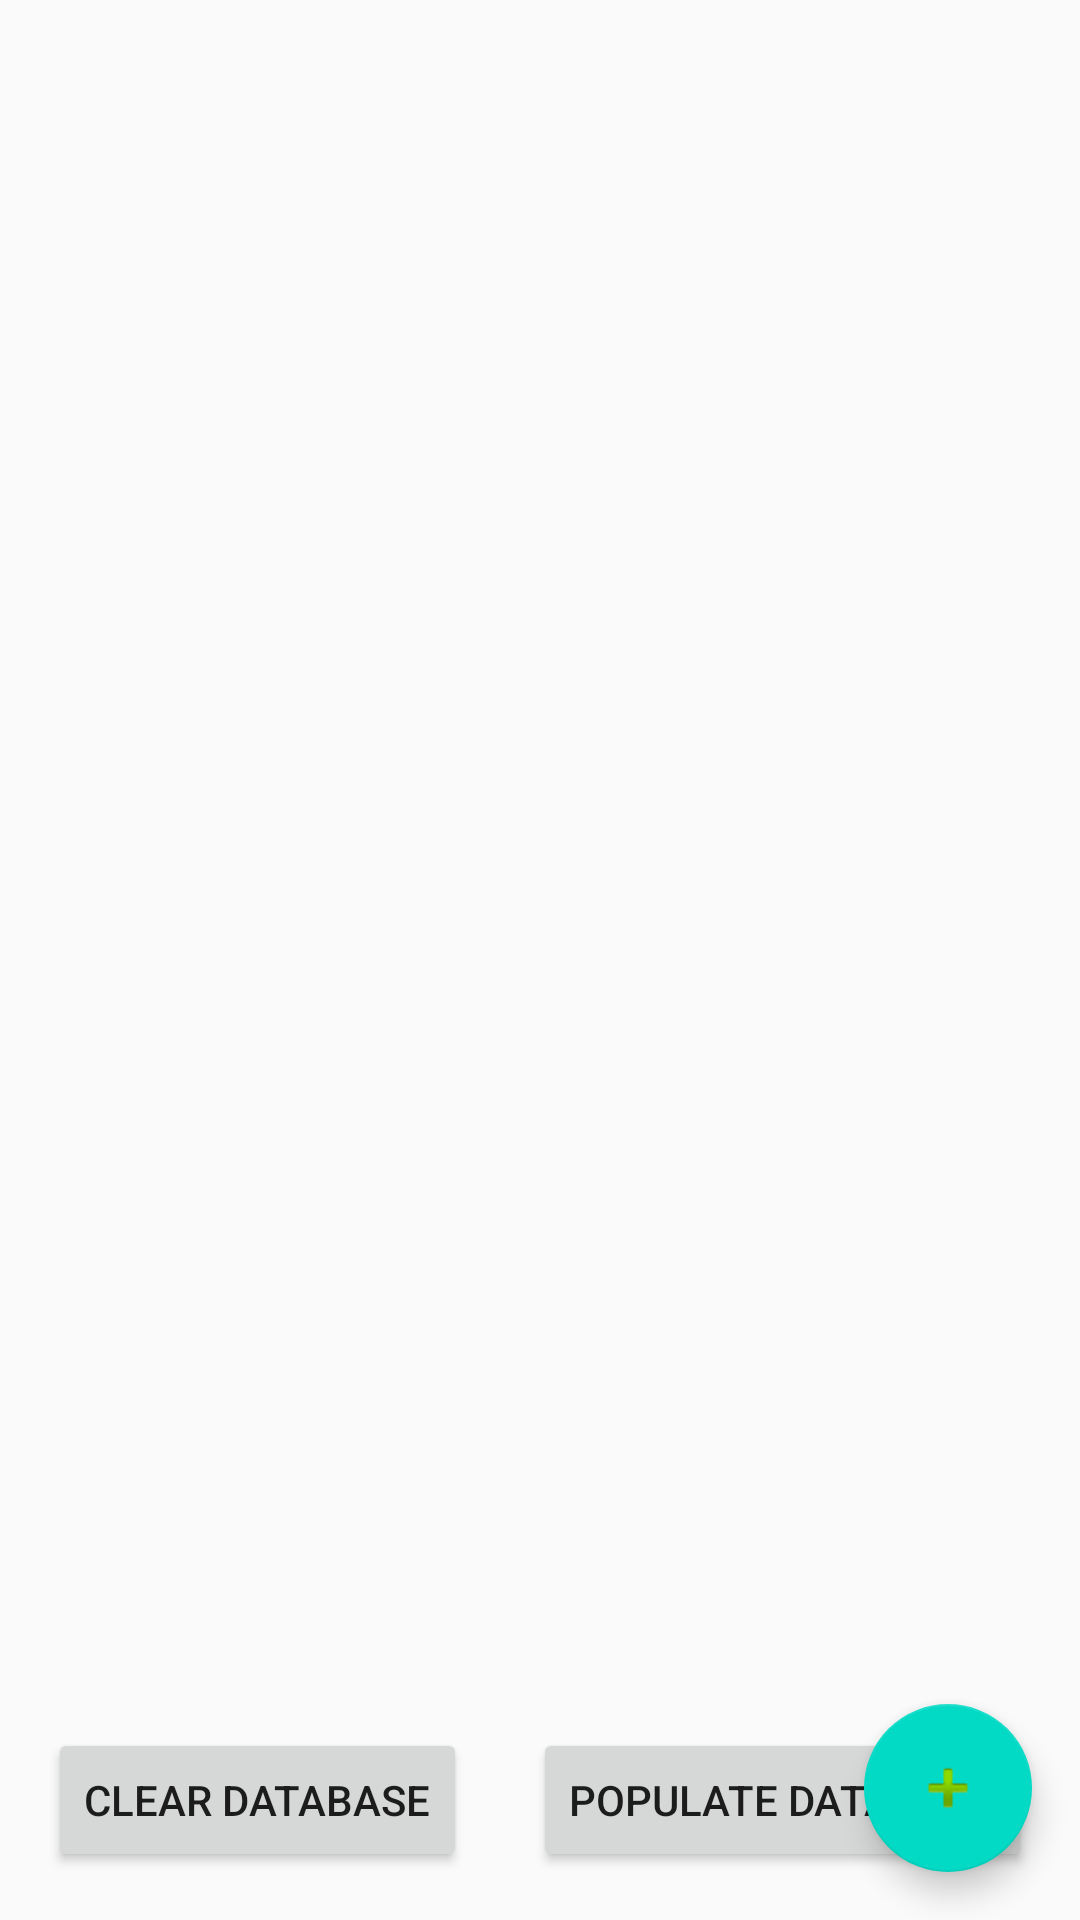

Icon bounding boxes for this 1080w x 1920h phone screenshot, format (x1, y1, x2, y2):
Add Workout: (864, 1704, 1032, 1872)
